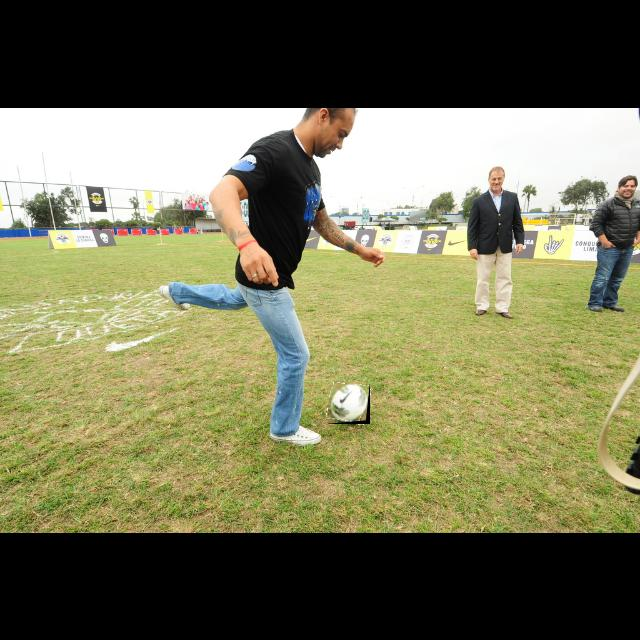Football: (328, 384, 370, 424)
